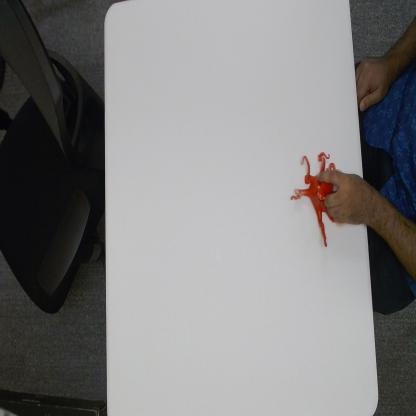Hand: (315, 166, 372, 227)
Octopus: (291, 147, 345, 250)
